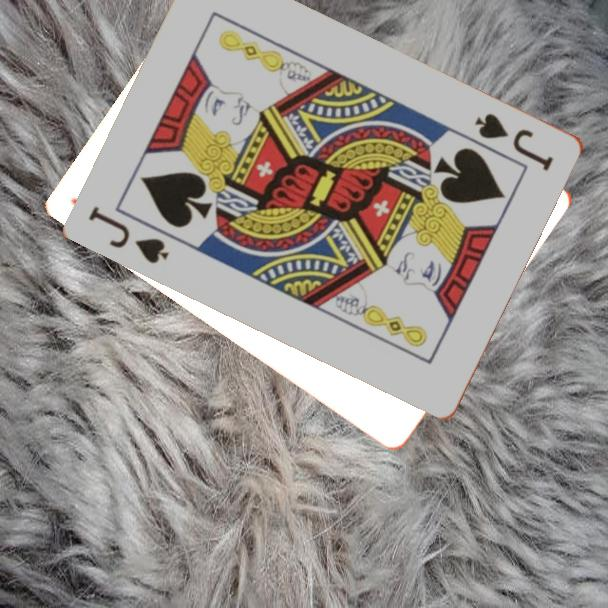s11: (85, 202, 173, 267), (471, 109, 557, 174)
